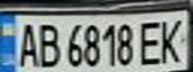1: (100, 20, 118, 68)
6: (60, 19, 84, 69)
8: (115, 19, 139, 66), (81, 20, 103, 69)
A: (12, 19, 42, 69)
B: (33, 19, 60, 69)
E: (136, 17, 166, 66)
K: (154, 13, 190, 64)
